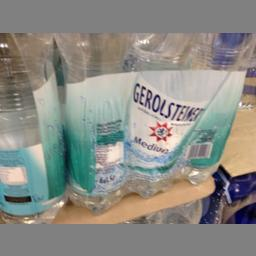water: (0, 32, 69, 221), (55, 34, 127, 212), (128, 33, 191, 198)
